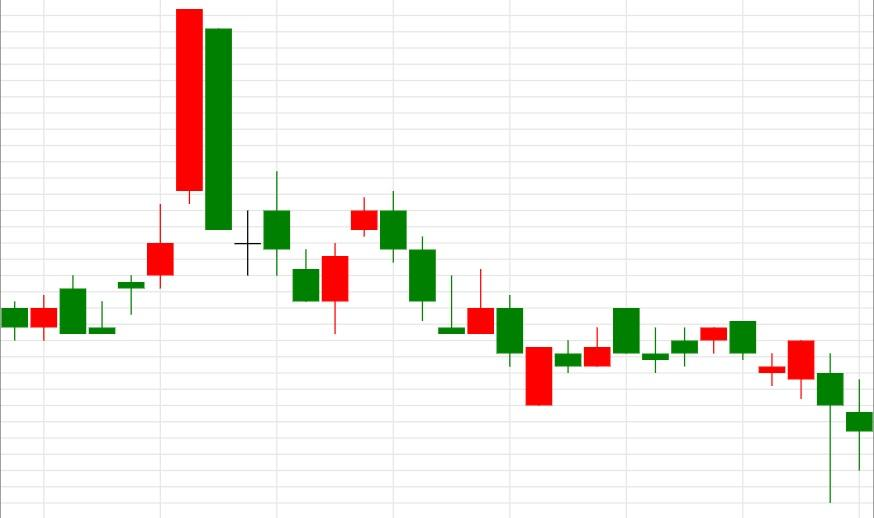bearish_engulfing_fall: (292, 191, 408, 335), (641, 320, 757, 372)
bullish_engulfing_rise: (175, 9, 349, 335)
